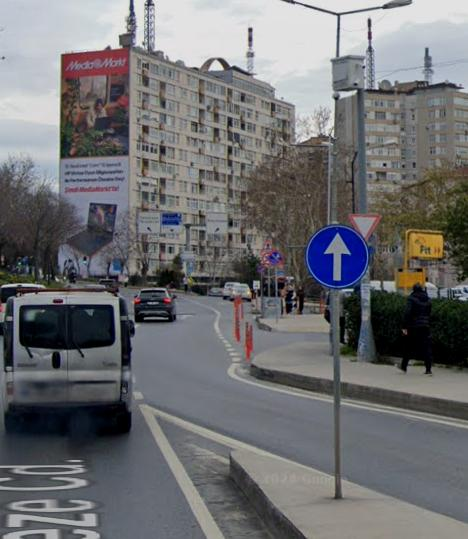forward: (310, 226, 367, 285)
